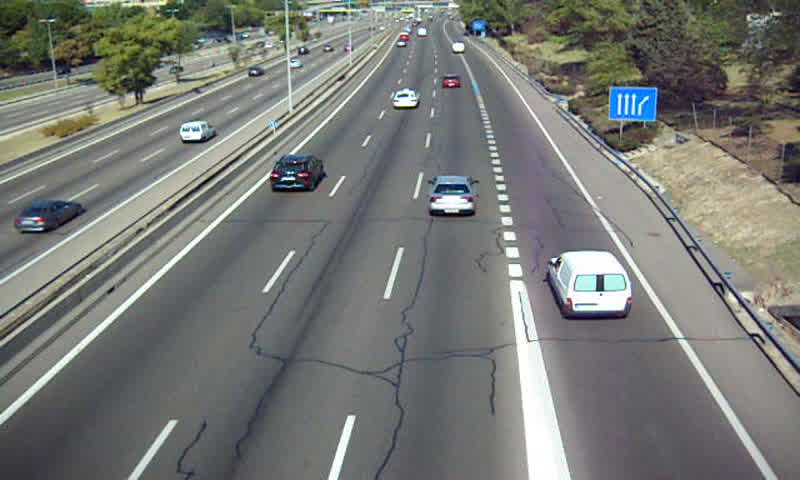car: (268, 155, 322, 192), (428, 177, 476, 215), (393, 89, 419, 108), (442, 75, 461, 90)
van: (549, 251, 633, 317)
